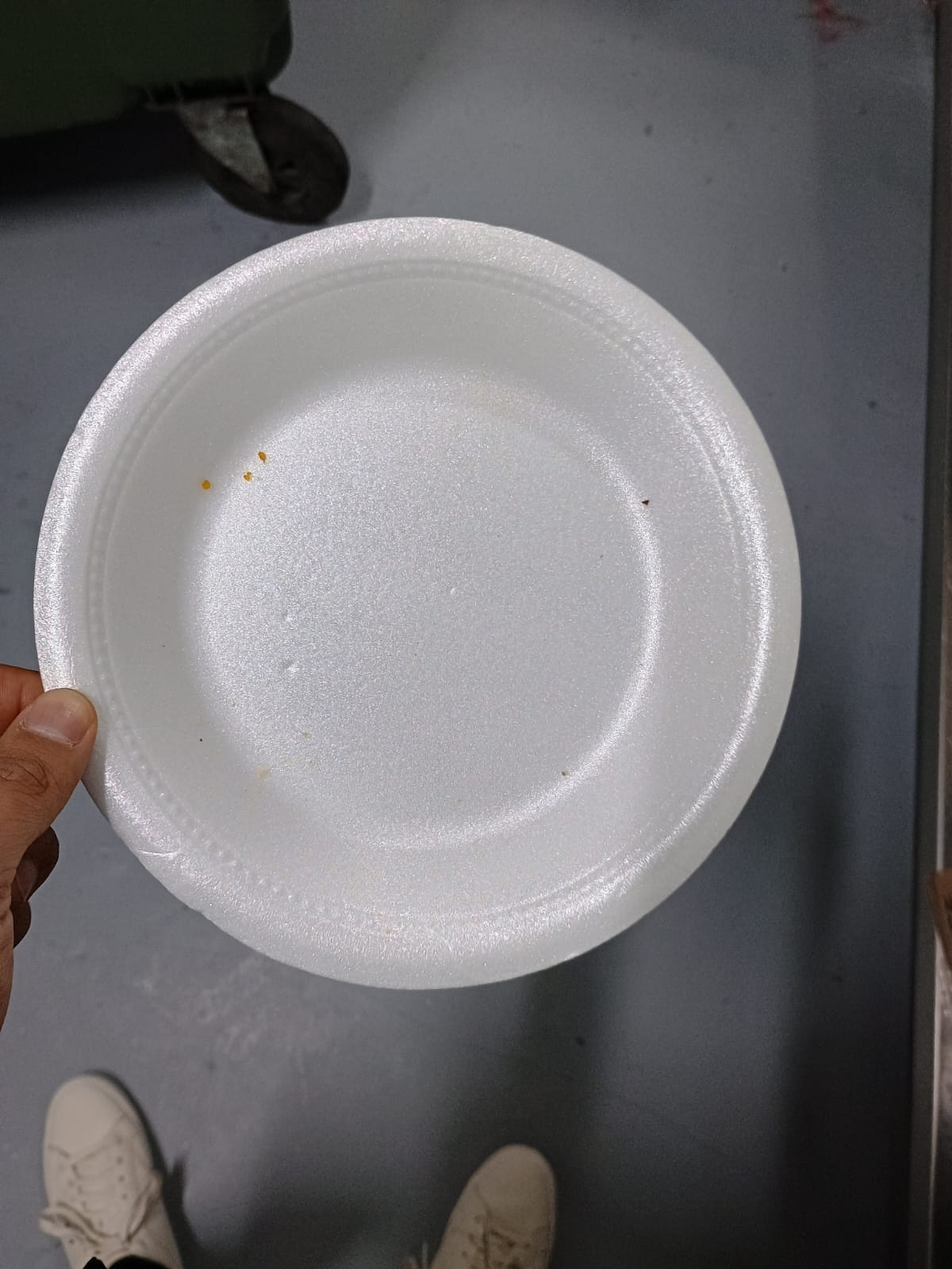Ordinario: (34, 219, 802, 991)
